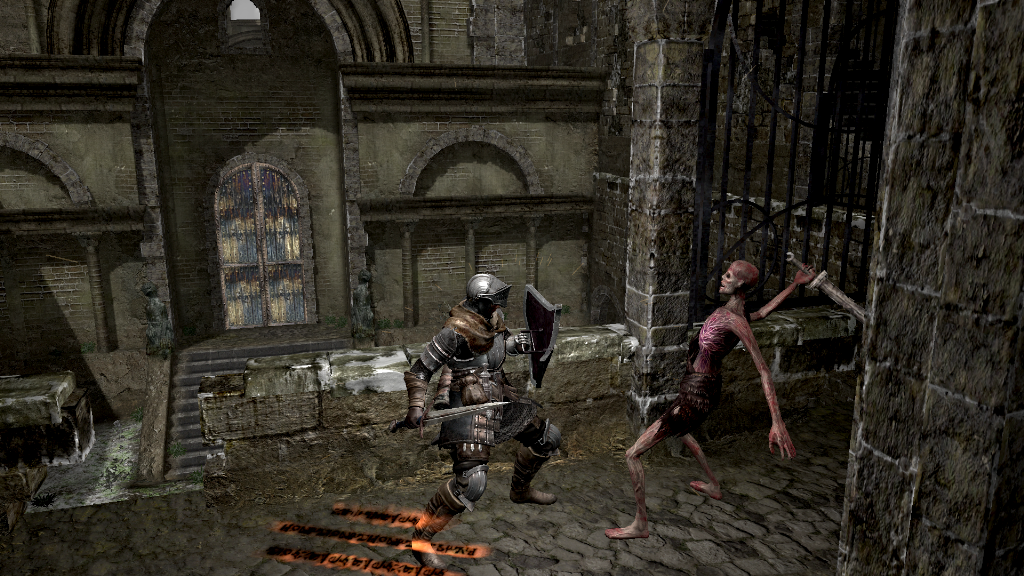hollow: (604, 258, 817, 539)
player: (386, 271, 564, 572)
